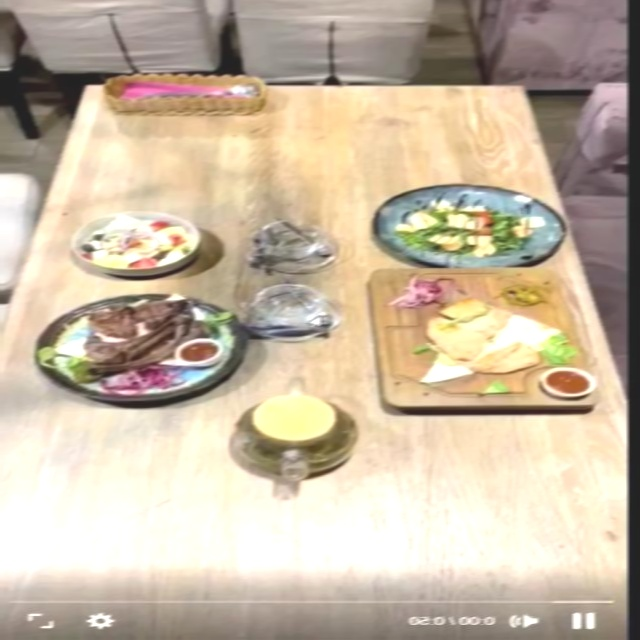meat: (371, 271, 598, 408), (34, 293, 250, 403)
salad: (373, 185, 567, 267), (69, 211, 202, 276)
tea: (233, 396, 358, 480)
